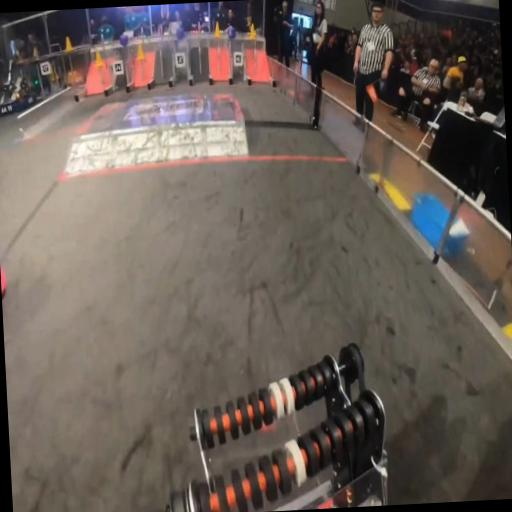robot: (0, 59, 38, 117)
